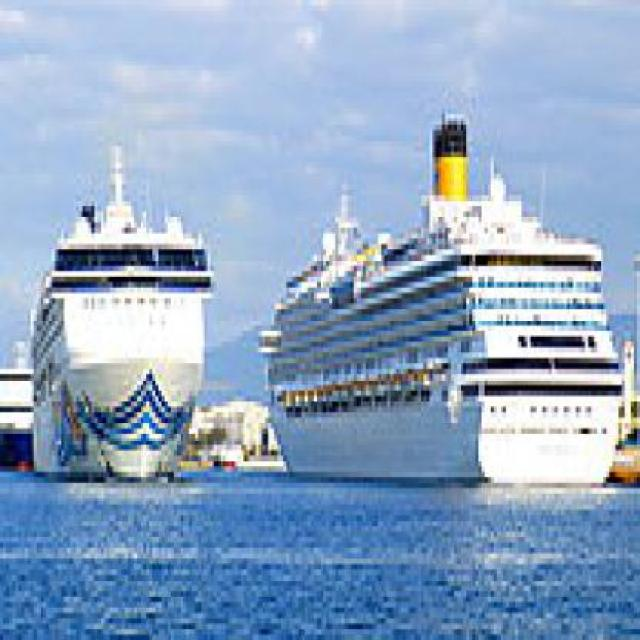cruise: (250, 104, 632, 506), (22, 131, 226, 500)
